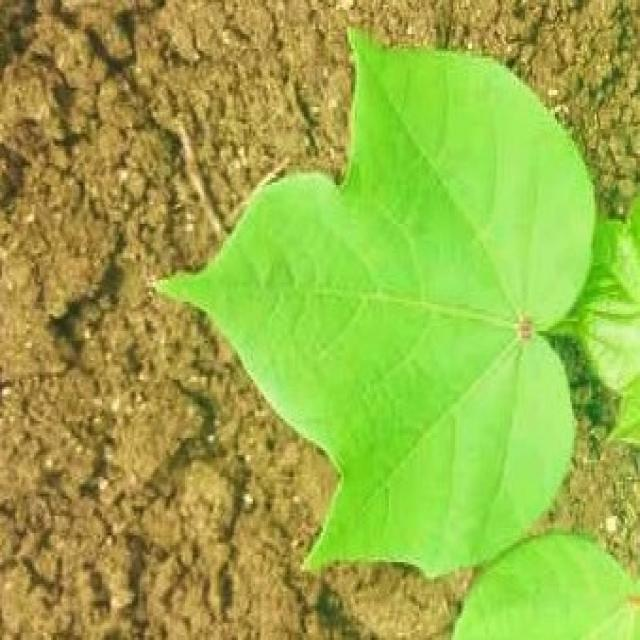Healthy Leaf: (312, 180, 522, 513)
